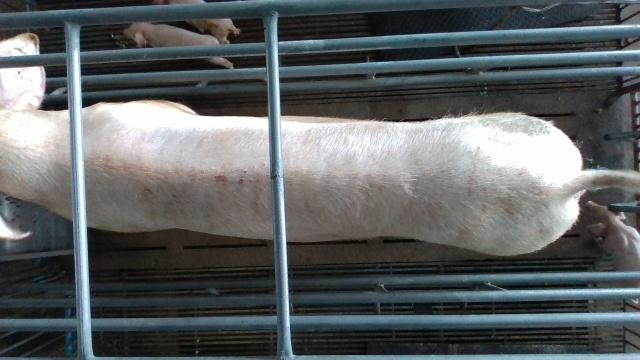piglet: (586, 200, 640, 305), (123, 22, 234, 69), (153, 0, 242, 43)
sow-stand-feed: (1, 33, 640, 255)
